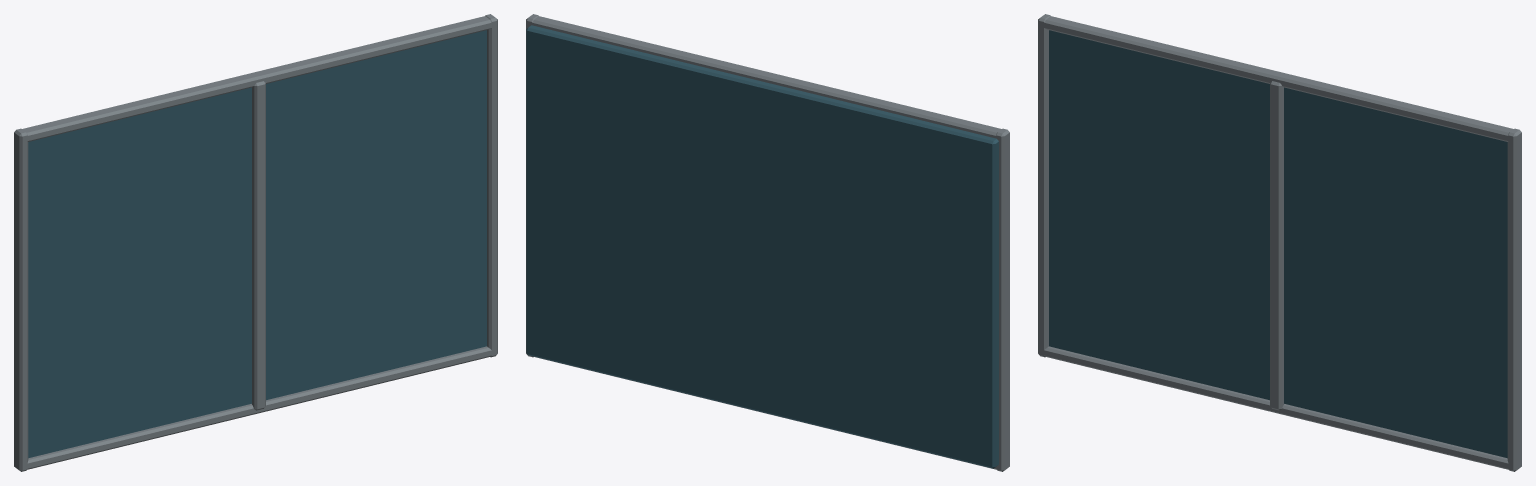
File: OfficeWindow.fbx
3 renders of one model, left to right at view 1: azimuth 30°, elevation 25°; view 2: azimuth 150°, elevation 25°; view 3: azimuth 330°, elevation 25°, orthographic.
Visible parts, largest first — view 1: OfficeWindow; view 2: OfficeWindow; view 3: OfficeWindow.
Boxes of the visible parts, bbox=[...] form: OfficeWindow: bbox=[14, 14, 497, 471]; OfficeWindow: bbox=[526, 14, 1009, 471]; OfficeWindow: bbox=[1038, 14, 1521, 471].
Bounding box in the file's own units: 184 × 124 × 9.
1 material, 1 textured.
